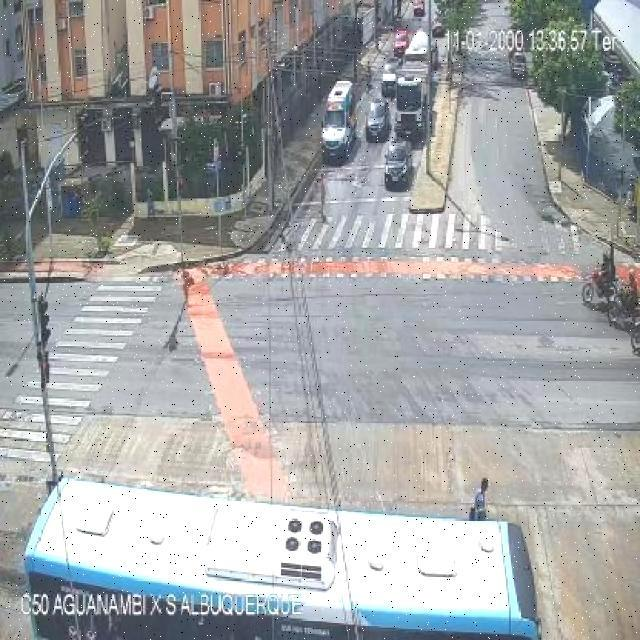Bus: (23, 467, 545, 640)
Car: (381, 142, 422, 186), (364, 100, 393, 143), (386, 22, 412, 58), (379, 57, 402, 96)
Cycle: (583, 254, 626, 303), (601, 280, 640, 329)
Truck: (394, 31, 434, 138)
Van: (314, 81, 360, 161)
